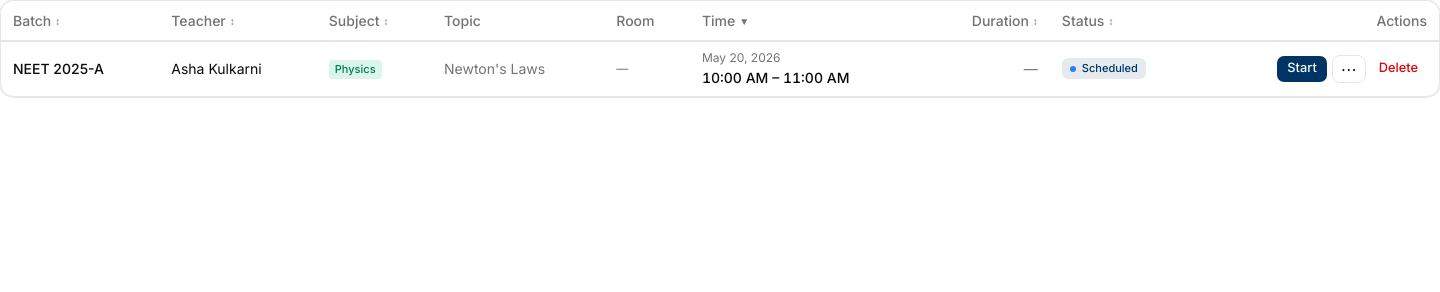
LectureTable › scheduled (past): Start is the quick-action; menu has Cancel, not Start
This screenshot has width=1440, height=292.
Expected: the button "Start" is shown, [1276,54,1328,82]
Expected: the button with aria-label "delete lecture" is shown, [1370,54,1427,82]
Click the button named "more actions for lecture" at (1349, 68), box [1332,54,1366,82]
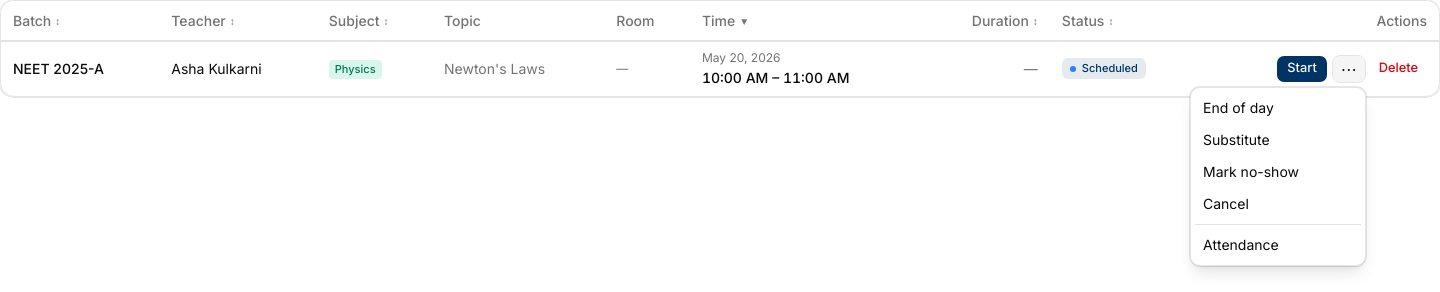
Result: the menu is shown at [1190,87,1366,266]
Result: the menu item "Cancel" is shown at [1203,195,1249,212]
Result: the menu item "Attendance" is shown at [1203,236,1279,253]
